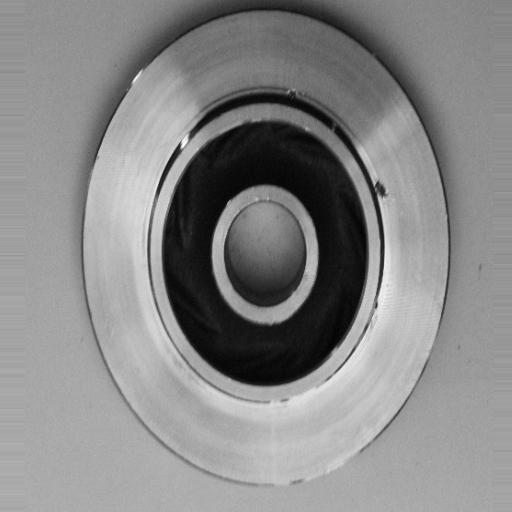crack: (365, 172, 395, 209), (279, 80, 309, 109)
scratch: (257, 382, 338, 411)
unpolished_casting: (78, 5, 453, 490)
